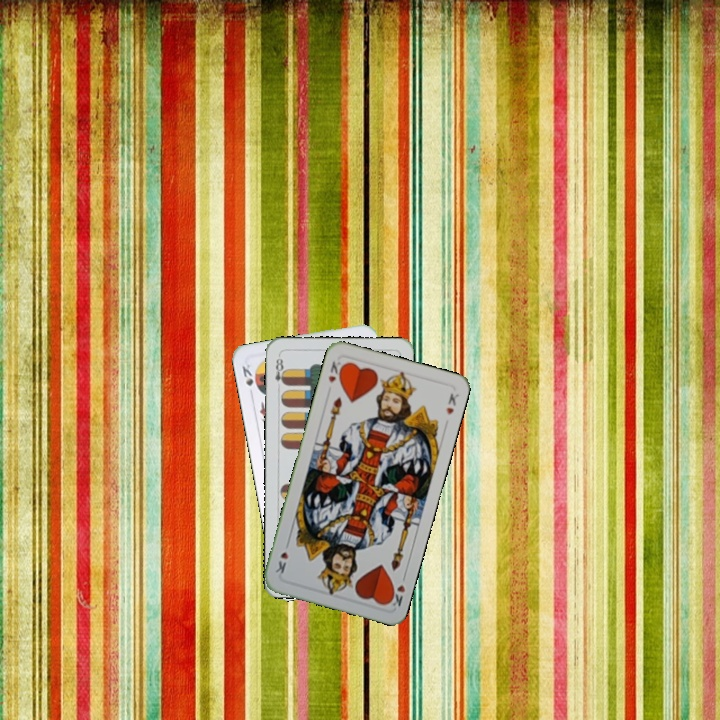E8: (271, 352, 288, 393)
HK: (384, 570, 409, 610), (324, 357, 346, 385)
SK: (238, 360, 256, 389)
